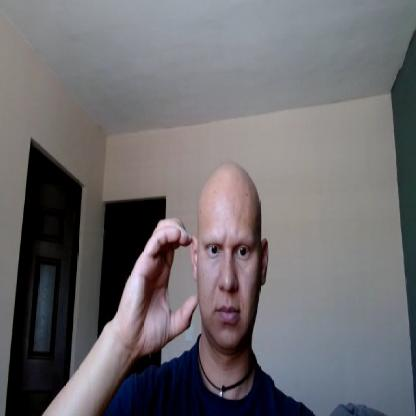C: (119, 216, 200, 351)
